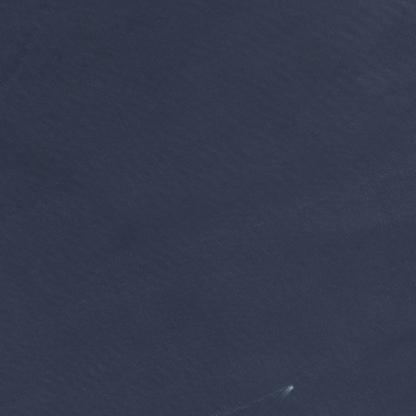ship: (283, 383, 291, 390)
